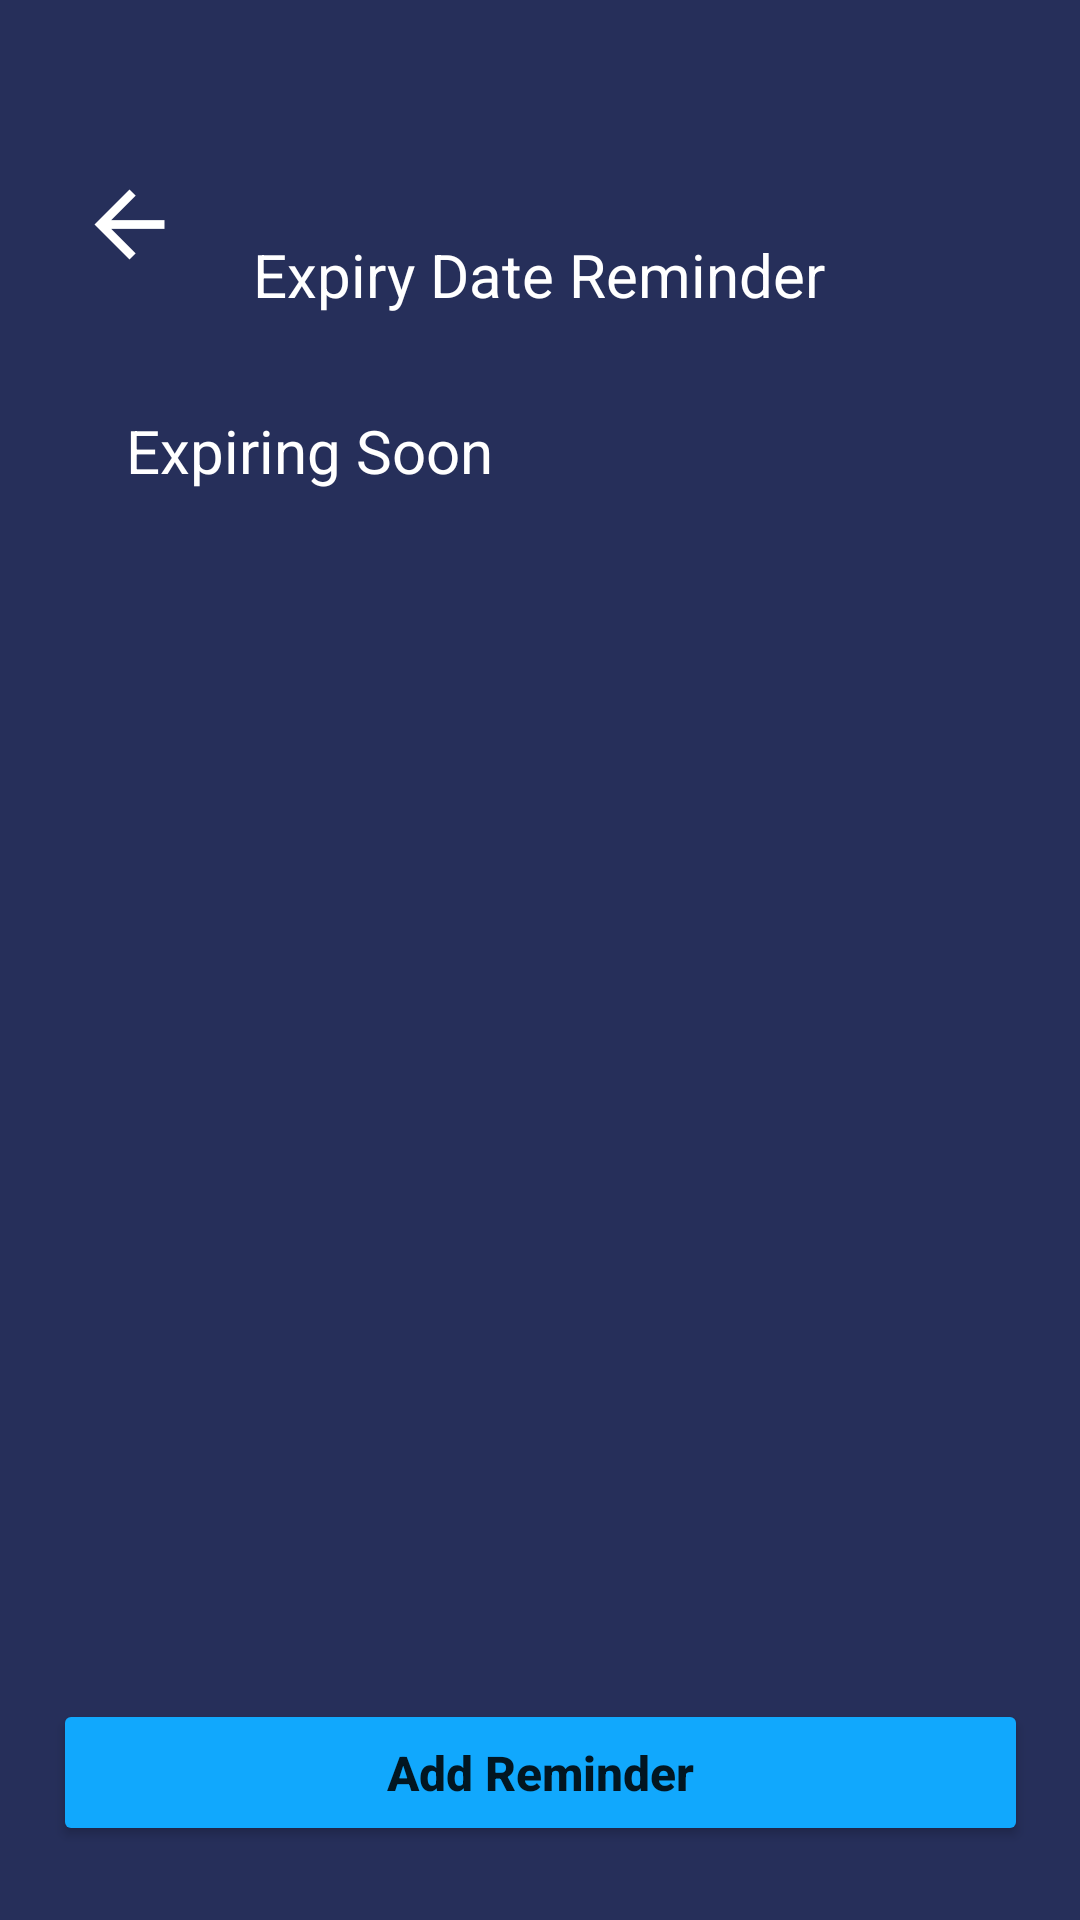

Screen size 1080px x 1920px. Icon name, then its box in pixels as [x1,y1,x2,y2]:
back: [94,189,165,260]
